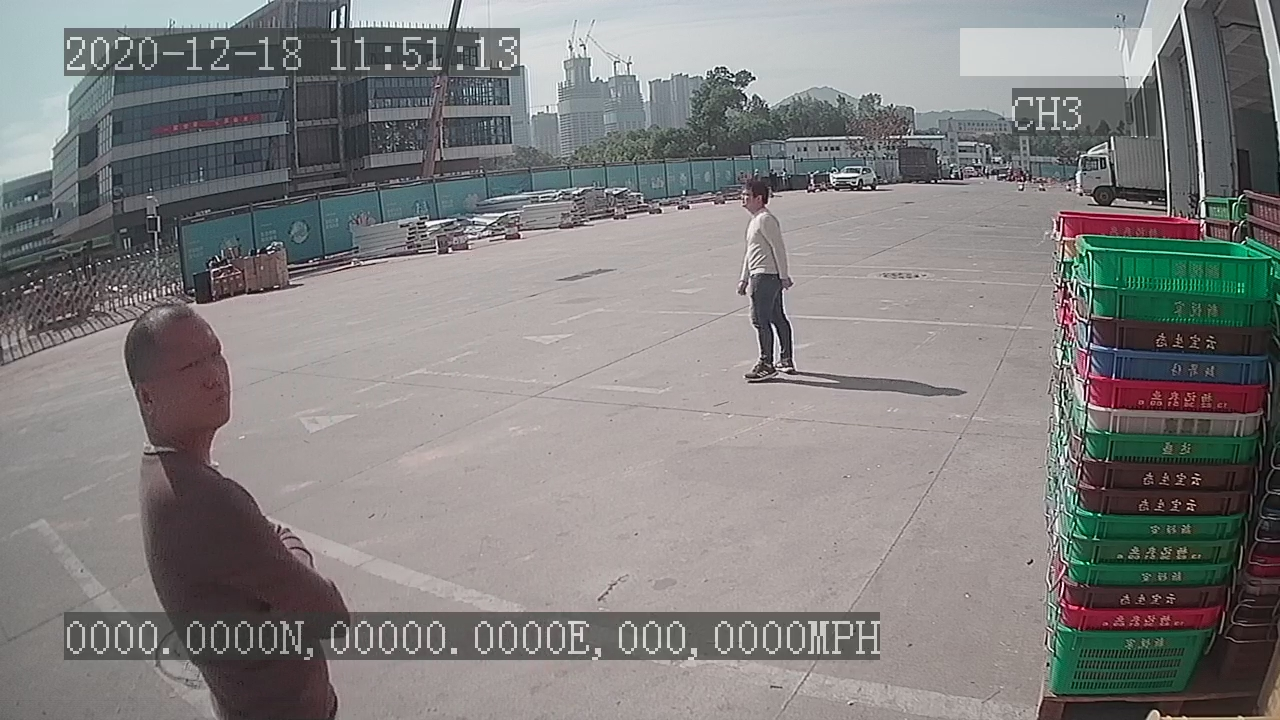person: (729, 176, 801, 390)
